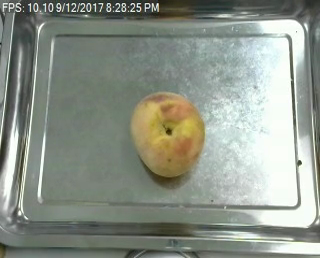Peach: (130, 90, 205, 176)
